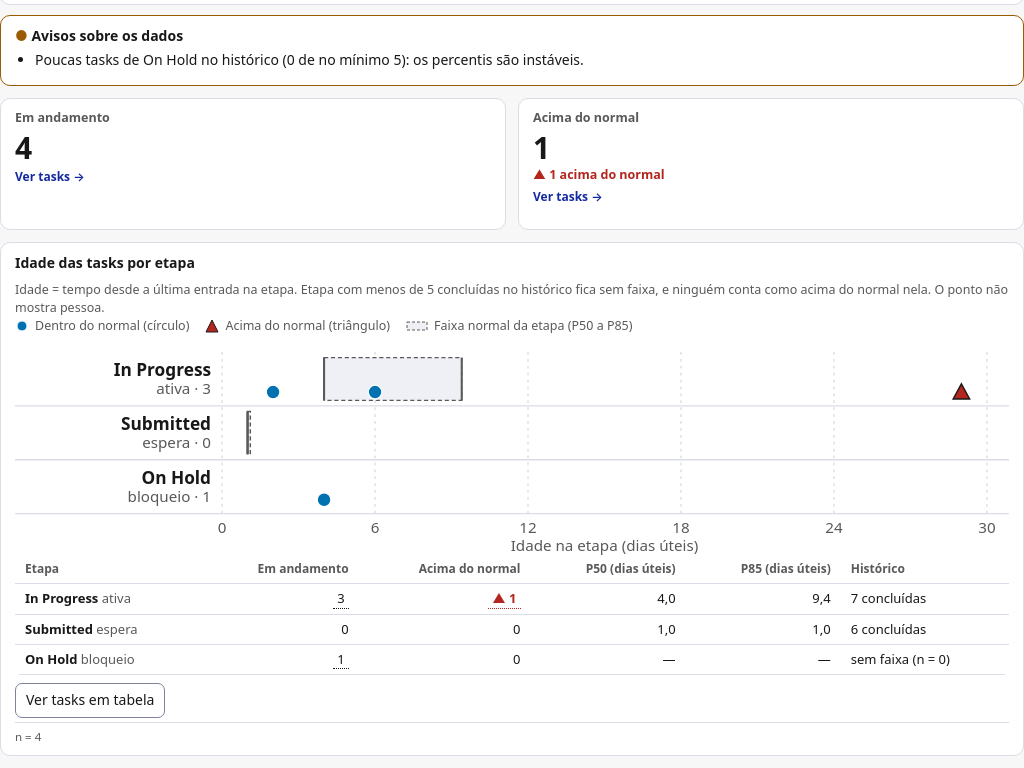
Test case: tela Envelhecimento por etapa › etapaEAcimaAbremAsTasks
(page scrolled)
Click the button named "In Progress: 3".
click(341, 599)  # box x1=333 y1=589 x2=349 y2=609
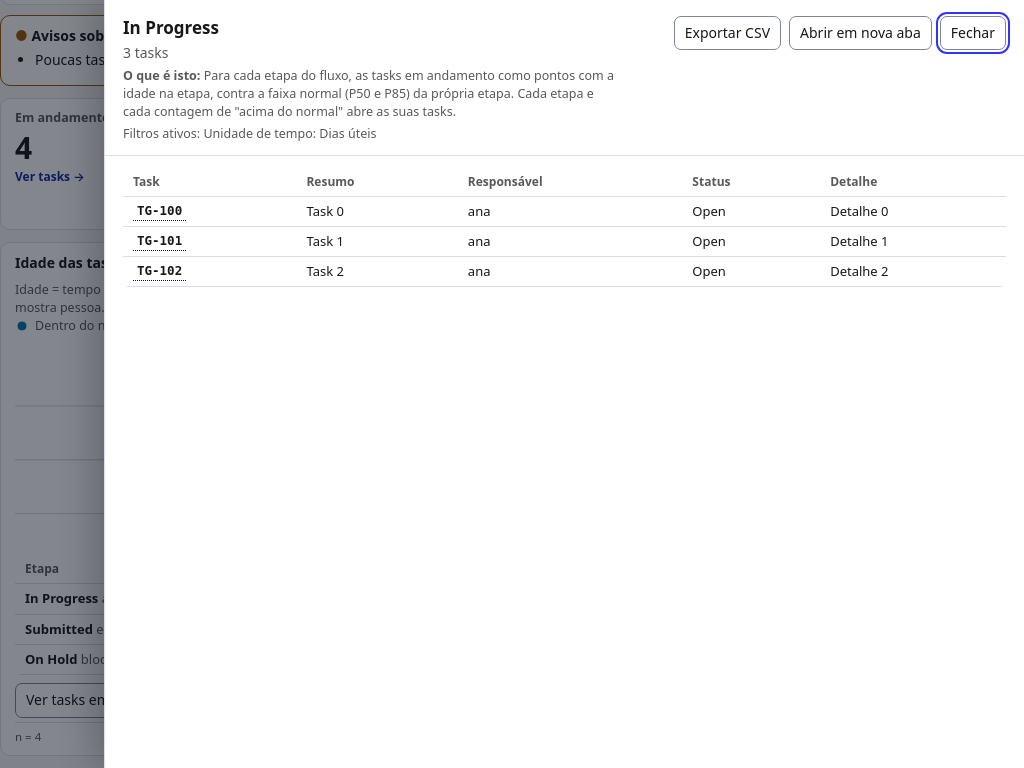
Now the dialog is shown
Press Escape
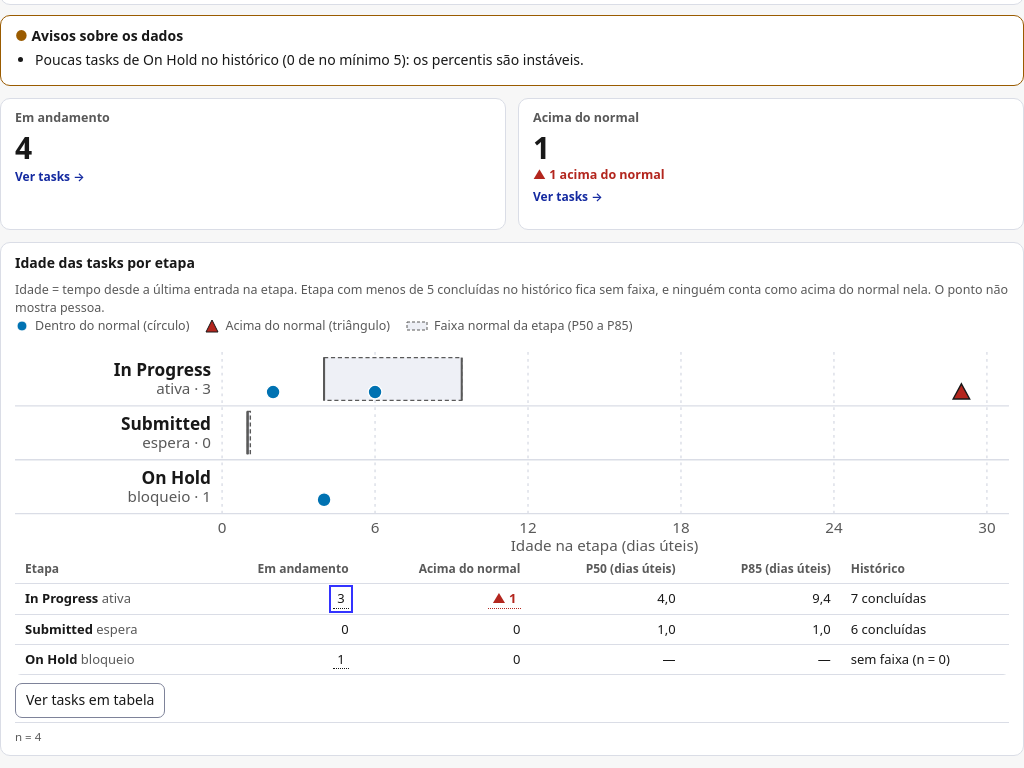
Click the button named "In Progress acima do normal: 1".
click(504, 599)  # box x1=488 y1=589 x2=521 y2=609
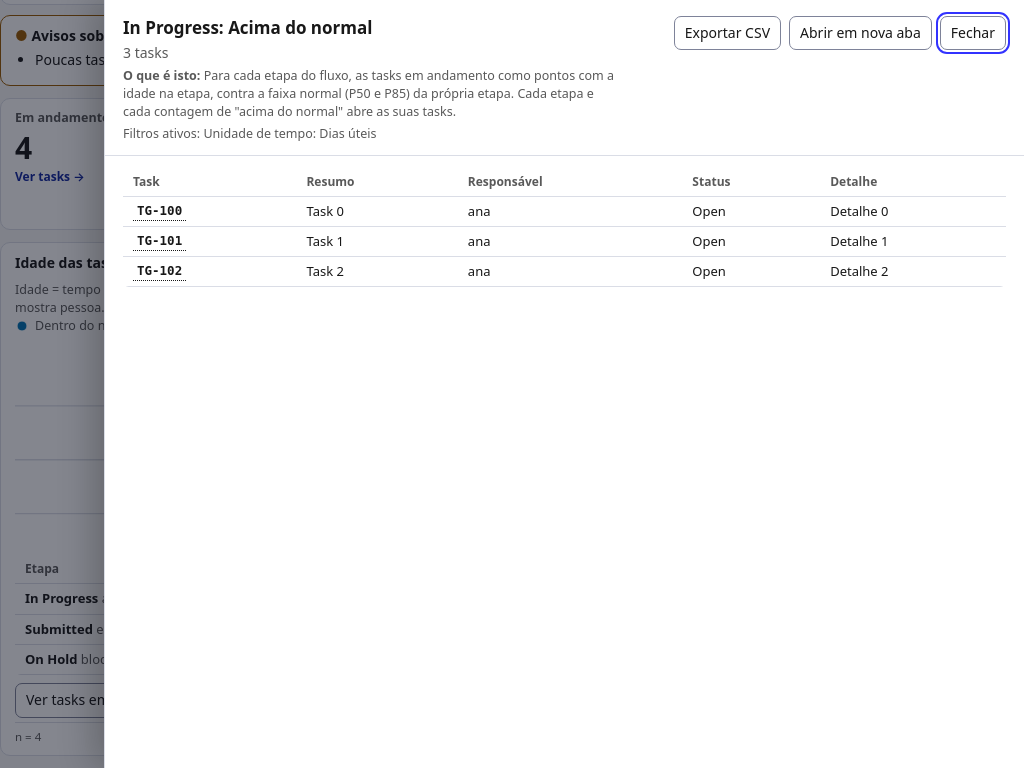
Now the dialog is shown
